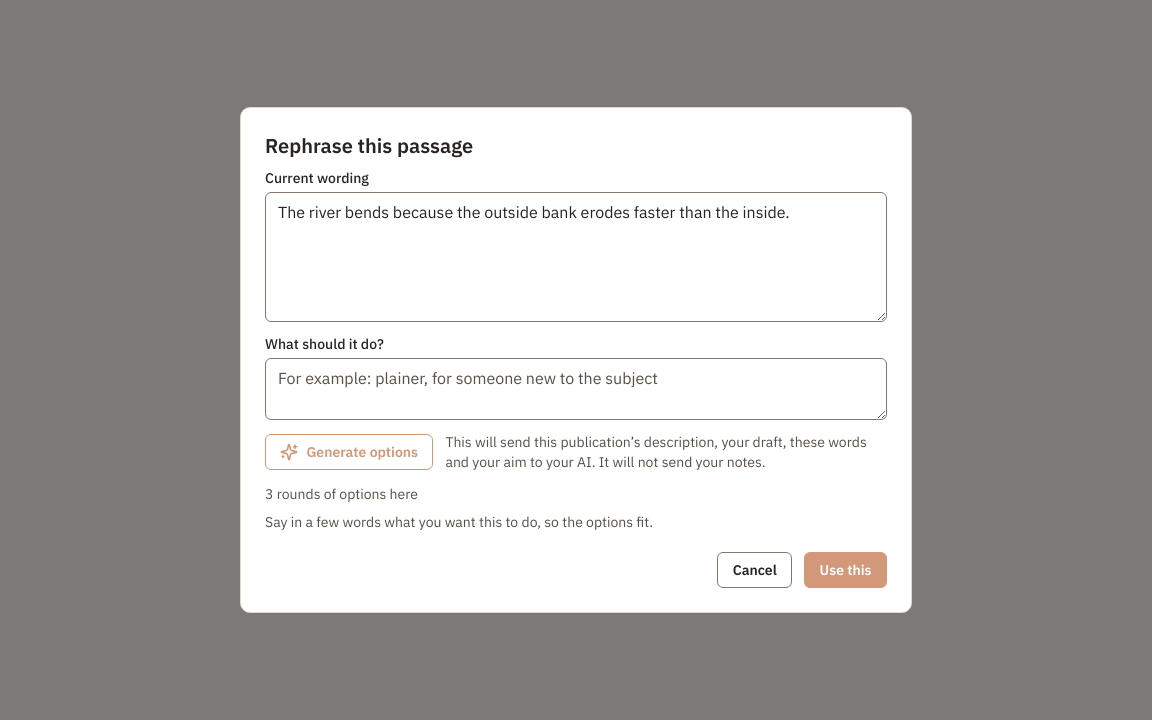
RephraseDialog › shows short options as a list, each with a button that puts it in the wording field
Type "Plainer for someone new" into the text box labelled "What should it do?".
click(576, 389); type("Plainer for someone new")  # box [265, 358, 887, 420]
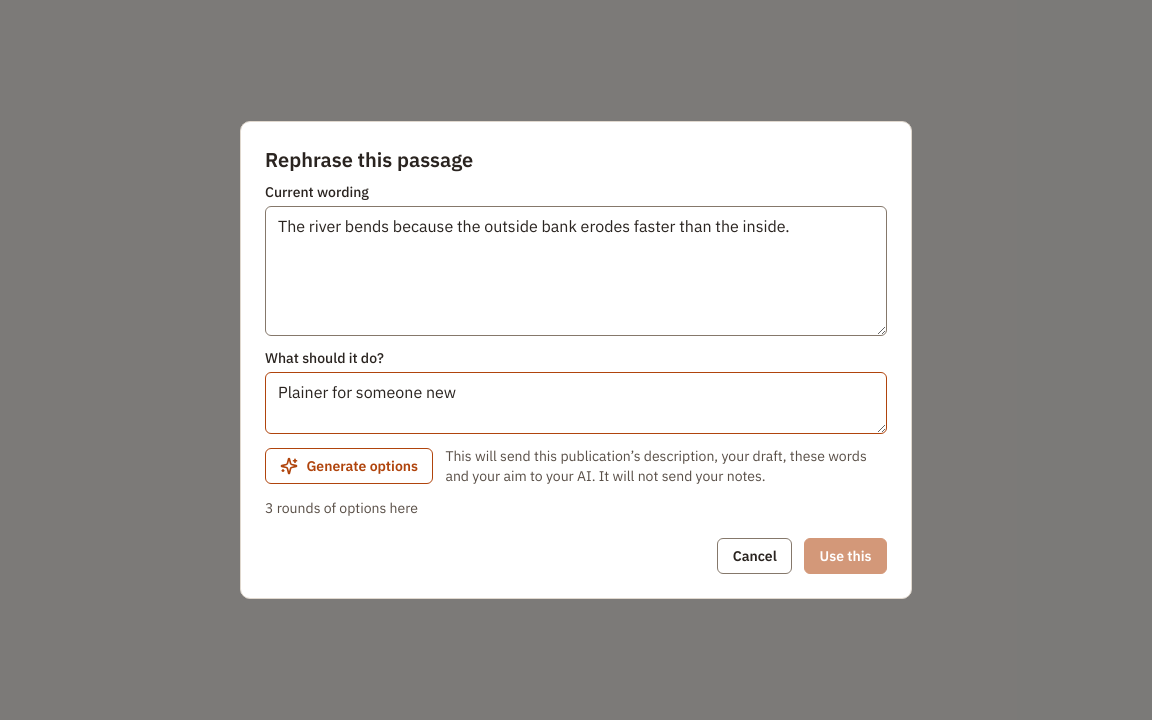
Click the button "Generate options".
click(349, 466)  # box [265, 448, 433, 484]
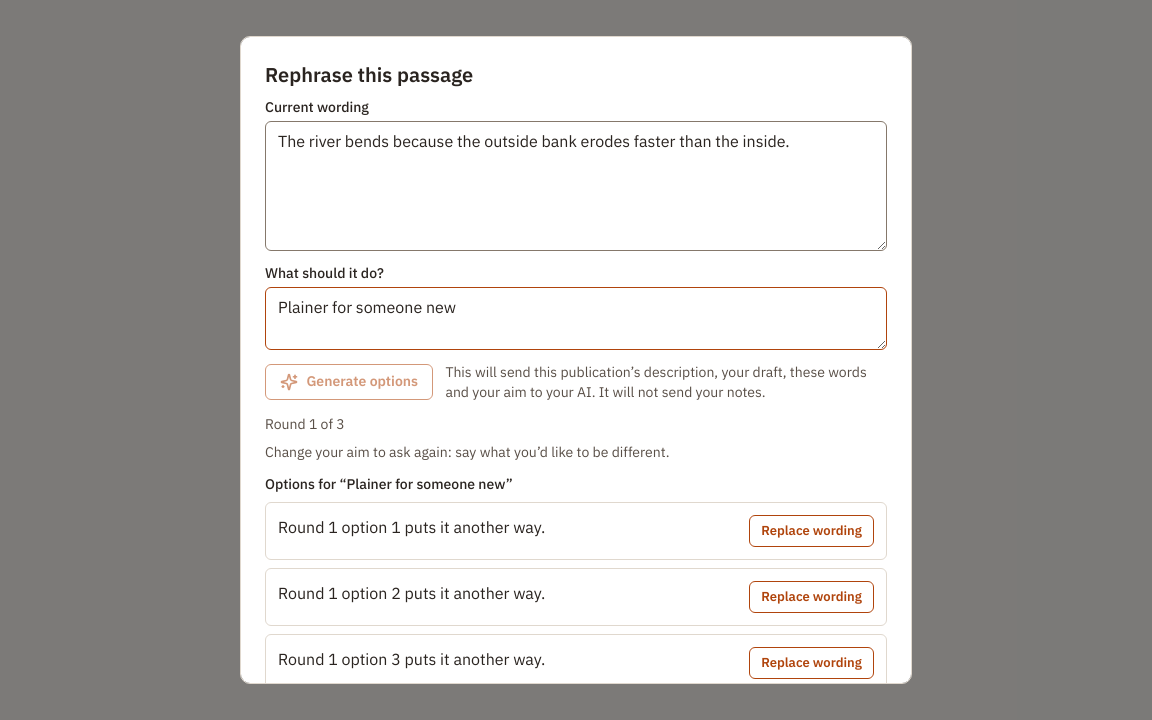
Result: the list item "Round 1 option 2 puts it another way. Replace wording" is shown at [265, 568, 887, 626]
Result: the text "Round 1 of 3" is shown at [265, 415, 345, 433]
Click the button with aria-label "Replace wording with option 2".
click(812, 597)  # box [749, 581, 874, 613]
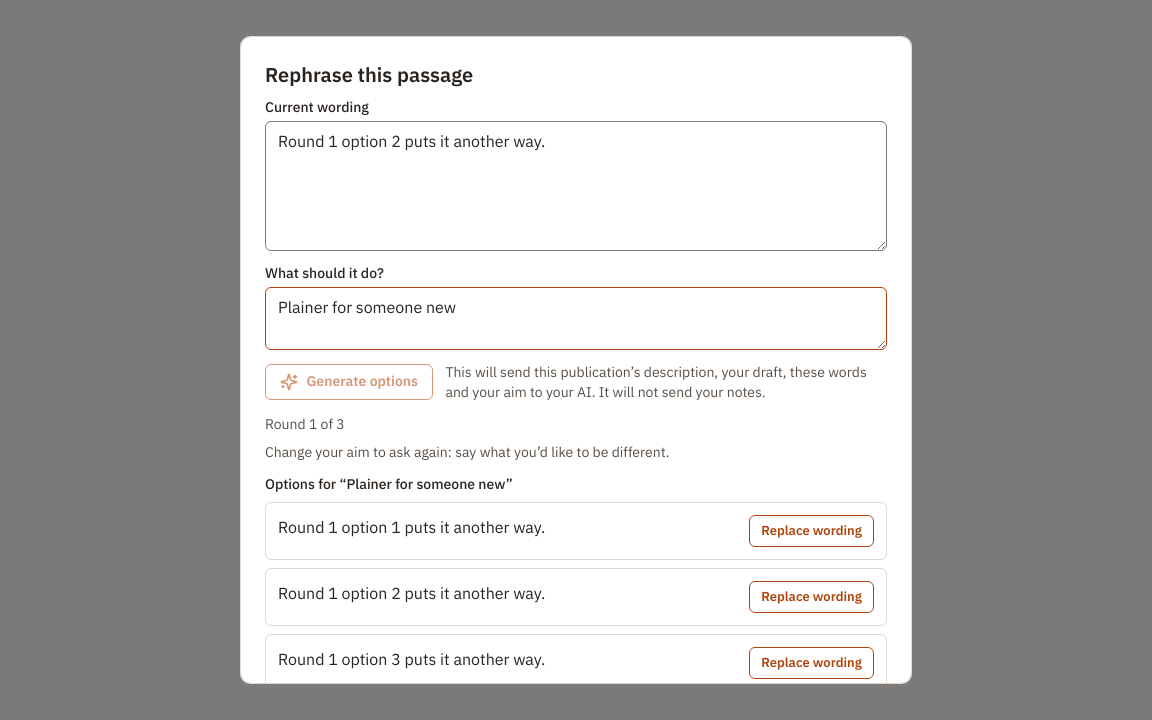
Result: the text box labelled "Current wording" holds "Round 1 option 2 puts it another way." at [265, 121, 887, 251]
